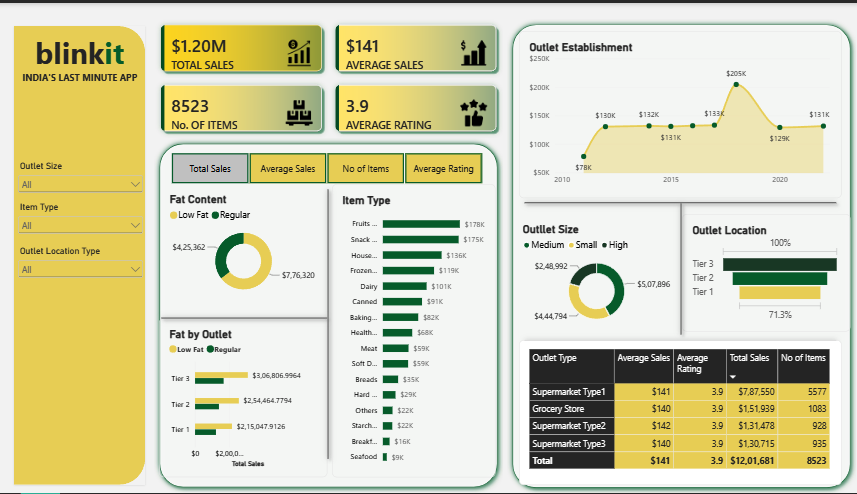

This screenshot's page, from the dashboard's own definition file:
{"tool":"powerbi","page":{"name":"Page 1","canvas":[1400,800],"ordinal":0},"visuals":[{"type":"shape","box":[23.8,38.1,214.3,749.2],"z":0},{"type":"textbox","box":[25,46.7,215,113.3],"z":1000},{"type":"cardVisual","fields":{"Data":["BlinkIT Grocery Data.Total Sales","BlinkIT Grocery Data.Average Sales","BlinkIT Grocery Data.No of Items","BlinkIT Grocery Data.Average Rating"]},"box":[252.5,24.6,570.5,196.7],"z":2000},{"type":"shape","box":[252.4,220.6,569.8,579.4],"z":3000},{"type":"donutChart","title":"Fat Content","fields":{"Category":["BlinkIT Grocery Data.Item Fat Content"],"Y":["BlinkIT Grocery Data.Total Sales"]},"box":[262.9,295.7,272.9,201.4],"z":4000},{"type":"slicer","fields":{"Values":["Metrics.Metrics"]},"box":[261.9,242.9,546.2,52.5],"z":5000},{"type":"clusteredBarChart","title":"Fat by Outlet","fields":{"Category":["BlinkIT Grocery Data.Outlet Location Type"],"Series":["BlinkIT Grocery Data.Item Fat Content"],"Y":["BlinkIT Grocery Data.Total Sales"]},"box":[261.9,514.3,274.6,260.3],"z":6000},{"type":"shape","box":[511.5,295.1,52.5,457.4],"z":7000},{"type":"shape","box":[255.7,492.9,288.5,42.6],"z":8000},{"type":"barChart","title":"Item Type","fields":{"Category":["BlinkIT Grocery Data.Item Type"],"Y":["BlinkIT Grocery Data.Total Sales"]},"box":[542.9,295.2,266.7,479.4],"z":9000},{"type":"shape","box":[828.6,25.4,569.8,774.6],"z":10000},{"type":"lineChart","title":"Outlet Establishment","fields":{"Category":["BlinkIT Grocery Data.Outlet Establishment Year"],"Y":["BlinkIT Grocery Data.Total Sales"]},"box":[849.2,46,527,273],"z":11000},{"type":"shape","box":[849.2,306.3,527,38.1],"z":12000},{"type":"donutChart","title":"Outllet Size","fields":{"Category":["BlinkIT Grocery Data.Outlet Size"],"Y":["BlinkIT Grocery Data.Total Sales"]},"box":[839.7,344.4,272.9,201.4],"z":13000},{"type":"funnel","title":"Outlet Location","fields":{"Category":["BlinkIT Grocery Data.Outlet Location Type"],"Y":["Sum(BlinkIT Grocery Data.Sales)"]},"box":[1114.3,344.4,274.6,192.1],"z":13001},{"type":"shape","box":[1087.3,319,52.4,231.7],"z":13002},{"type":"shape","box":[849.2,531.7,527,38.1],"z":13003},{"type":"pivotTable","fields":{"Rows":["BlinkIT Grocery Data.Outlet Type"],"Values":["BlinkIT Grocery Data.Average Sales","BlinkIT Grocery Data.Average Rating","BlinkIT Grocery Data.Total Sales","BlinkIT Grocery Data.No of Items"]},"box":[849.2,550.8,527,236.5],"z":13004},{"type":"slicer","fields":{"Values":["BlinkIT Grocery Data.Outlet Location Type"]},"box":[25.4,396.8,214.3,76.2],"z":13005},{"type":"slicer","fields":{"Values":["BlinkIT Grocery Data.Outlet Size"]},"box":[25.4,257.1,214.3,76.2],"z":13006},{"type":"slicer","fields":{"Values":["BlinkIT Grocery Data.Item Type"]},"box":[25.4,325.4,214.3,76.2],"z":13007}]}

Visuals, with their boxes in screenshot pixels (x1, y1, x2, y2), scaled from the page's 1400x800 canvas onto the 857x494 screenshot:
shape: 15,24,146,486
textbox: 15,29,147,99
cardVisual - BlinkIT Grocery Data.Total Sales x BlinkIT Grocery Data.Average Sales: 155,15,504,137
shape: 155,136,503,493
"Fat Content" donutChart: 161,183,328,307
slicer - Metrics.Metrics: 160,150,495,182
"Fat by Outlet" clusteredBarChart: 160,318,328,478
shape: 313,182,345,465
shape: 157,304,333,331
"Item Type" barChart: 332,182,496,478
shape: 507,16,856,493
"Outlet Establishment" lineChart: 520,28,842,197
shape: 520,189,842,213
"Outllet Size" donutChart: 514,213,681,337
"Outlet Location" funnel: 682,213,850,331
shape: 666,197,698,340
shape: 520,328,842,352
pivotTable - BlinkIT Grocery Data.Outlet Type x BlinkIT Grocery Data.Average Sales: 520,340,842,486
slicer - BlinkIT Grocery Data.Outlet Location Type: 16,245,147,292
slicer - BlinkIT Grocery Data.Outlet Size: 16,159,147,206
slicer - BlinkIT Grocery Data.Item Type: 16,201,147,248
